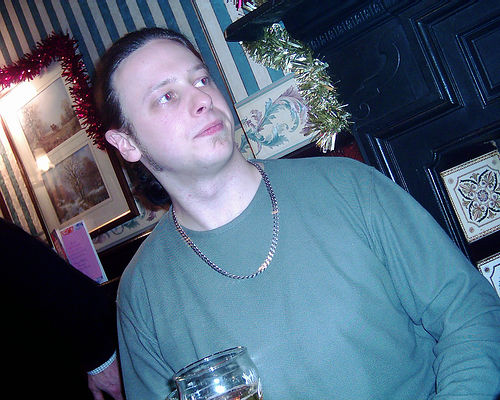without_mask: (106, 48, 244, 207)
